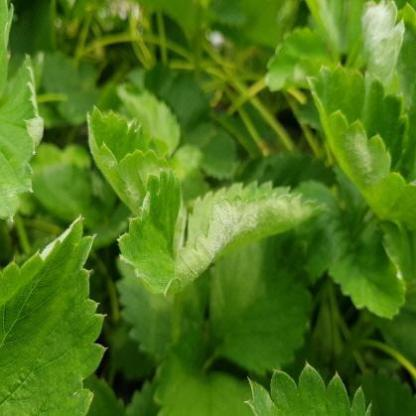Strawberry_Powdery_Mildew_Leaf: (0, 214, 108, 415), (163, 180, 326, 302), (306, 63, 414, 233), (87, 105, 176, 217), (116, 168, 187, 294), (360, 0, 406, 83)
